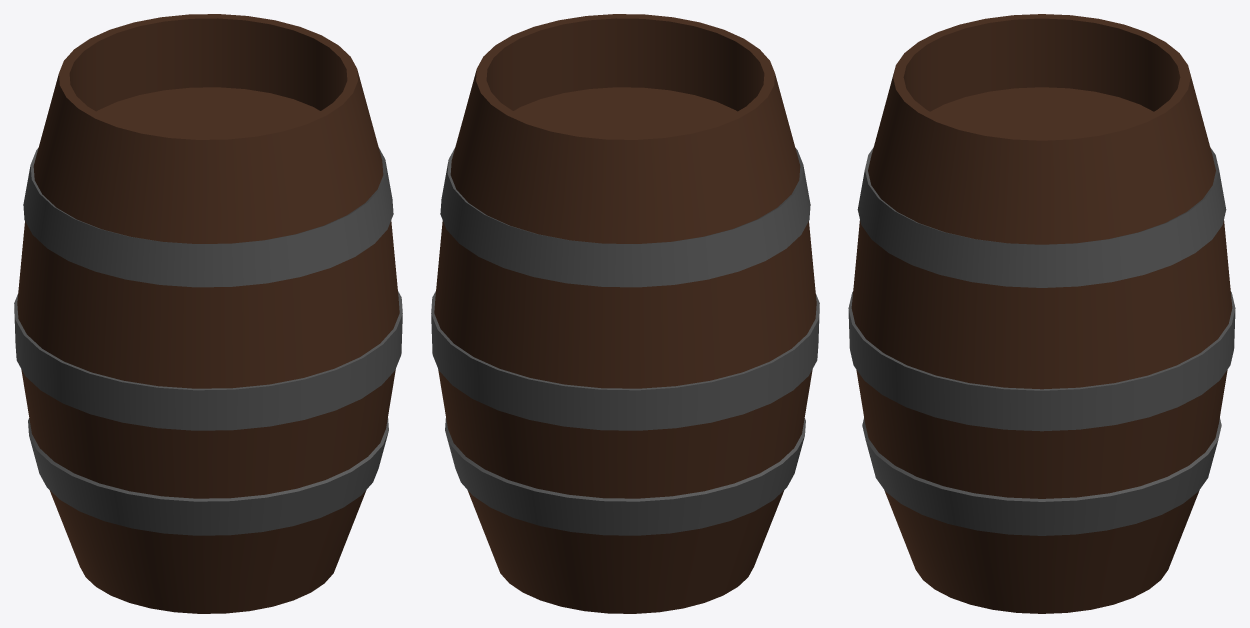
File: Barile S 1 .fbx
The picture shows the model from 3 angles, left to right: view 1: azimuth 30°, elevation 25°; view 2: azimuth 150°, elevation 25°; view 3: azimuth 270°, elevation 25°; orthographic projection.
Visible parts, largest first — view 1: T. Barrel 1 .003; view 2: T. Barrel 1 .003; view 3: T. Barrel 1 .003.
Part boxes in pixels (left/top/right/bottom): T. Barrel 1 .003: left=14, top=14, right=402, bottom=613; T. Barrel 1 .003: left=431, top=14, right=819, bottom=613; T. Barrel 1 .003: left=848, top=14, right=1235, bottom=613.
Bounding box in the file's own units: 87.66 × 120 × 87.05.
